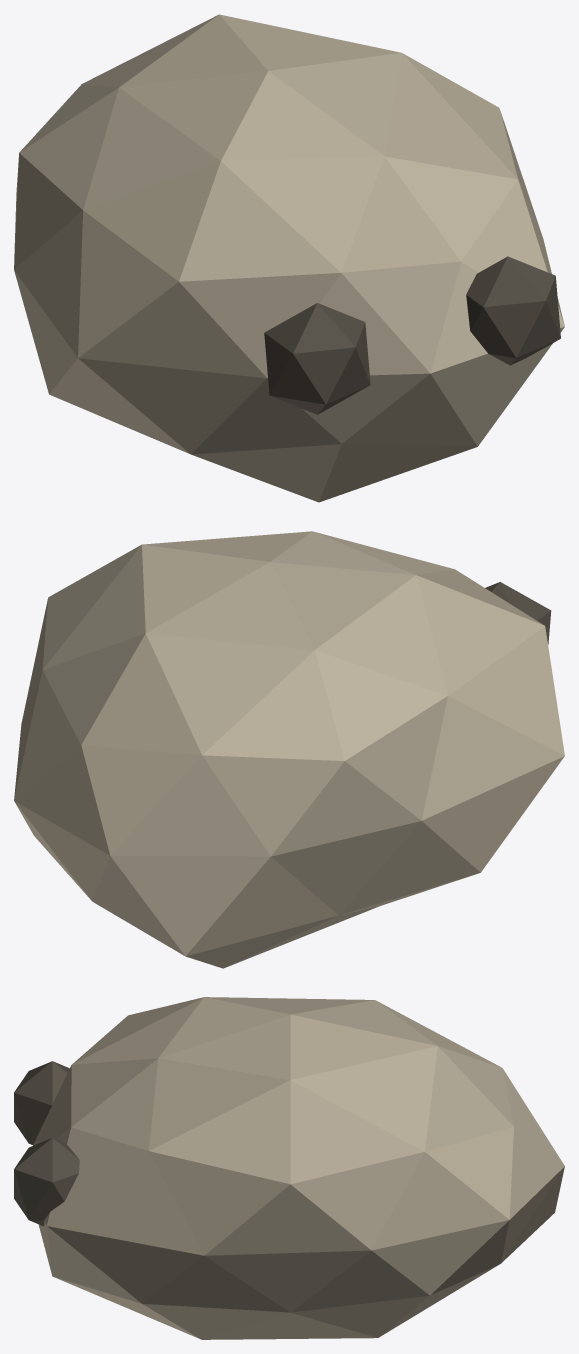
Rendered from desert-skull.glb.
3 views of the same model, one above another, from view 1: azimuth 30°, elevation 25°; view 2: azimuth 150°, elevation 25°; view 3: azimuth 270°, elevation 25° (orthographic). The views are drawn at different scales.
Visible parts, largest first — view 1: desert-skull; view 2: desert-skull; view 3: desert-skull.
Boxes of the visible parts, bbox=[...] form: desert-skull: bbox=[14, 14, 564, 502]; desert-skull: bbox=[14, 531, 564, 968]; desert-skull: bbox=[14, 997, 564, 1339].
Size of the model in its own units: 0.4031 by 0.3038 by 0.4863.
